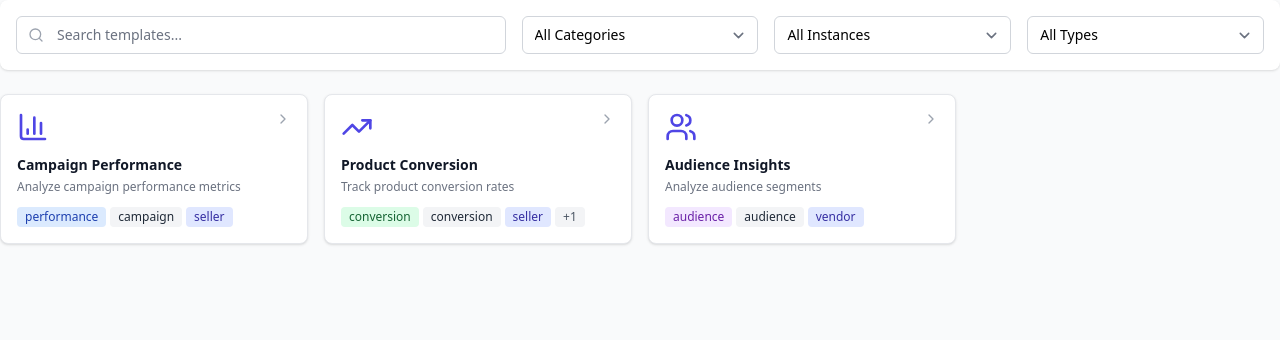
TemplateGrid › shows empty state when no templates match filters
Type "nonexistent" into the field with placeholder "Search templates..." at (261, 35), box [16,16,506,54]
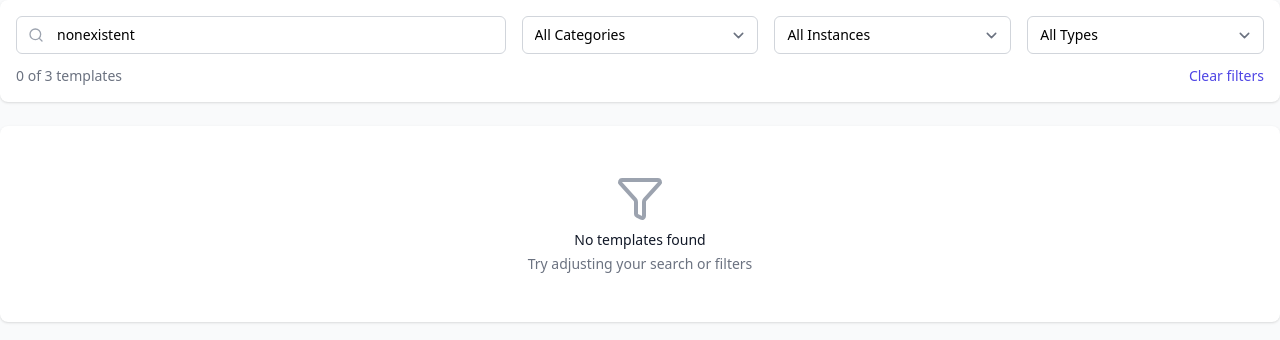
expect the heading "No templates found" is shown: met, box [574,230,706,249]
